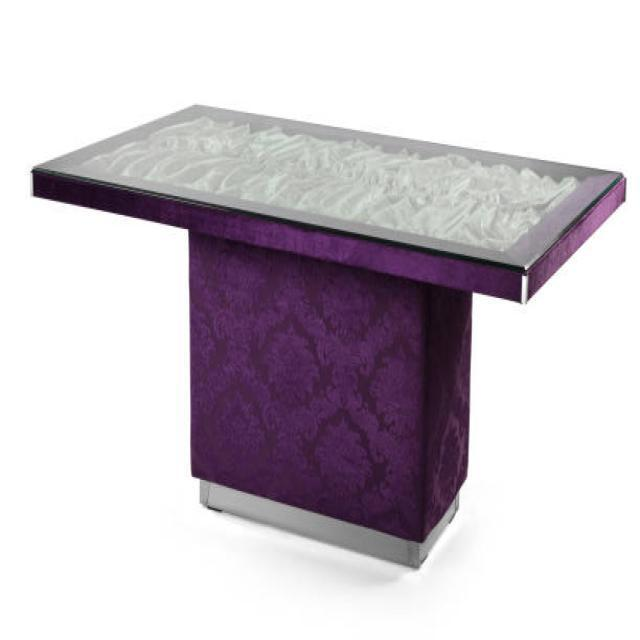table: (31, 100, 626, 570)
